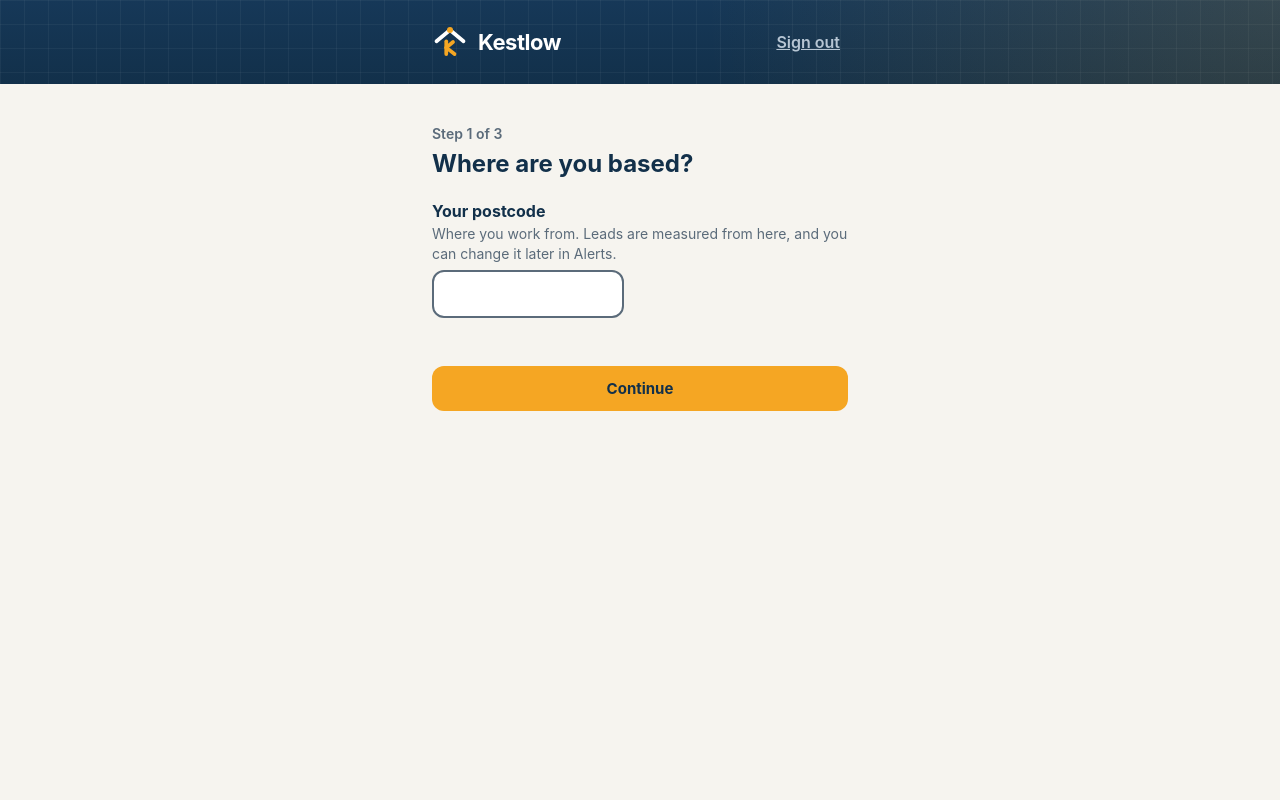
Test case: OnboardingGate › on a one-trade plan, marks the first ticked as the main trade and keeps them all
Type "BR1 1AA" into the field labelled "Your postcode" at (528, 294), box [432,270,624,318]
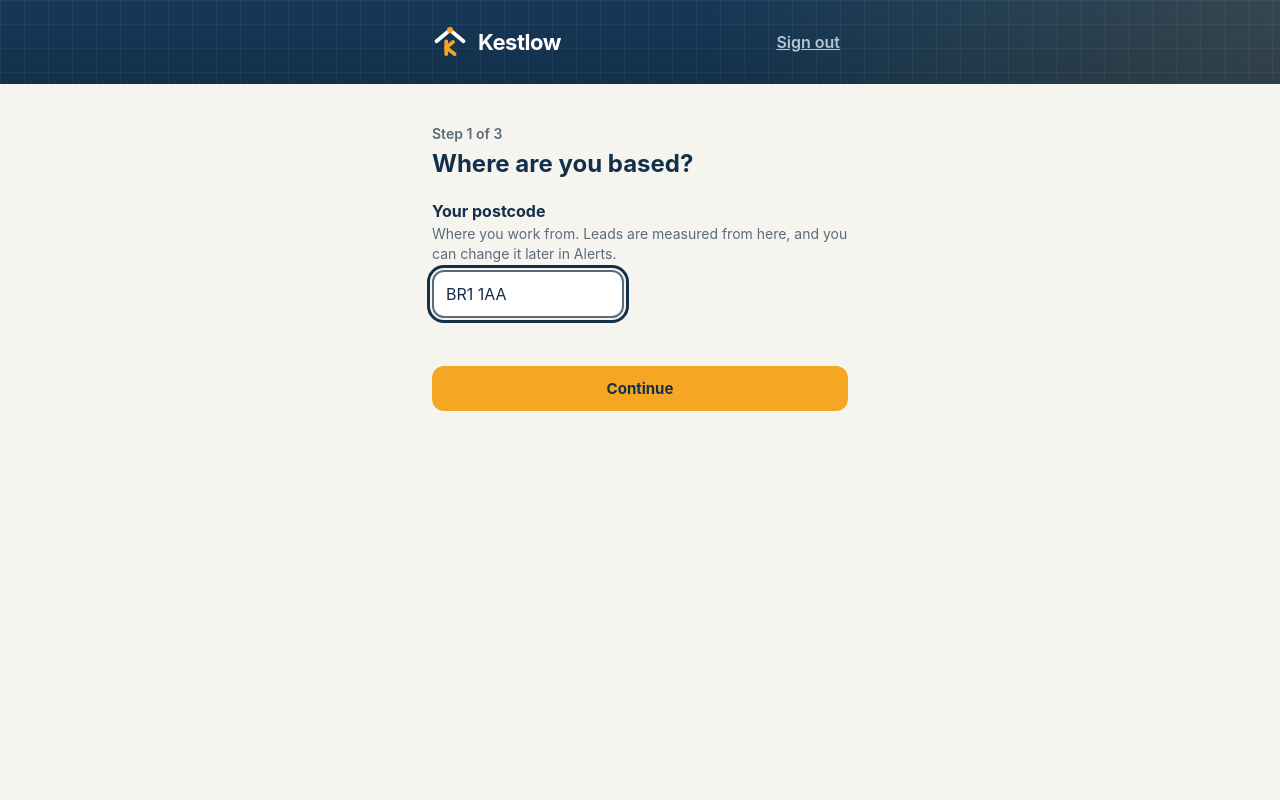
Click the button "Continue" at (640, 389), box [432,366,848,411]
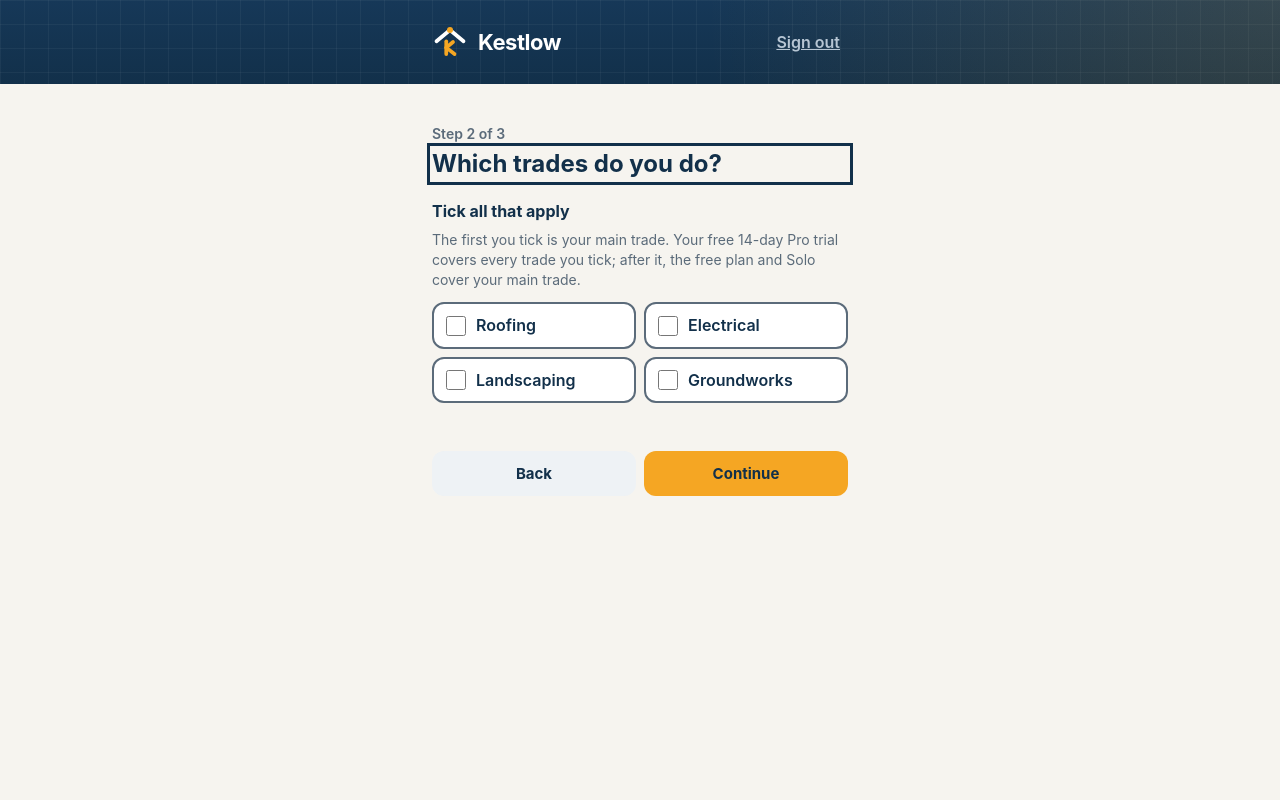
Expected: the heading "Which trades do you do?" is shown, [432,149,722,178]
Expected: the text "Your free 14-day Pro trial covers every trade you tick" is shown, [432,231,838,288]
Click the checkbox labelled "Landscaping" at (456, 380), box [446,370,466,390]
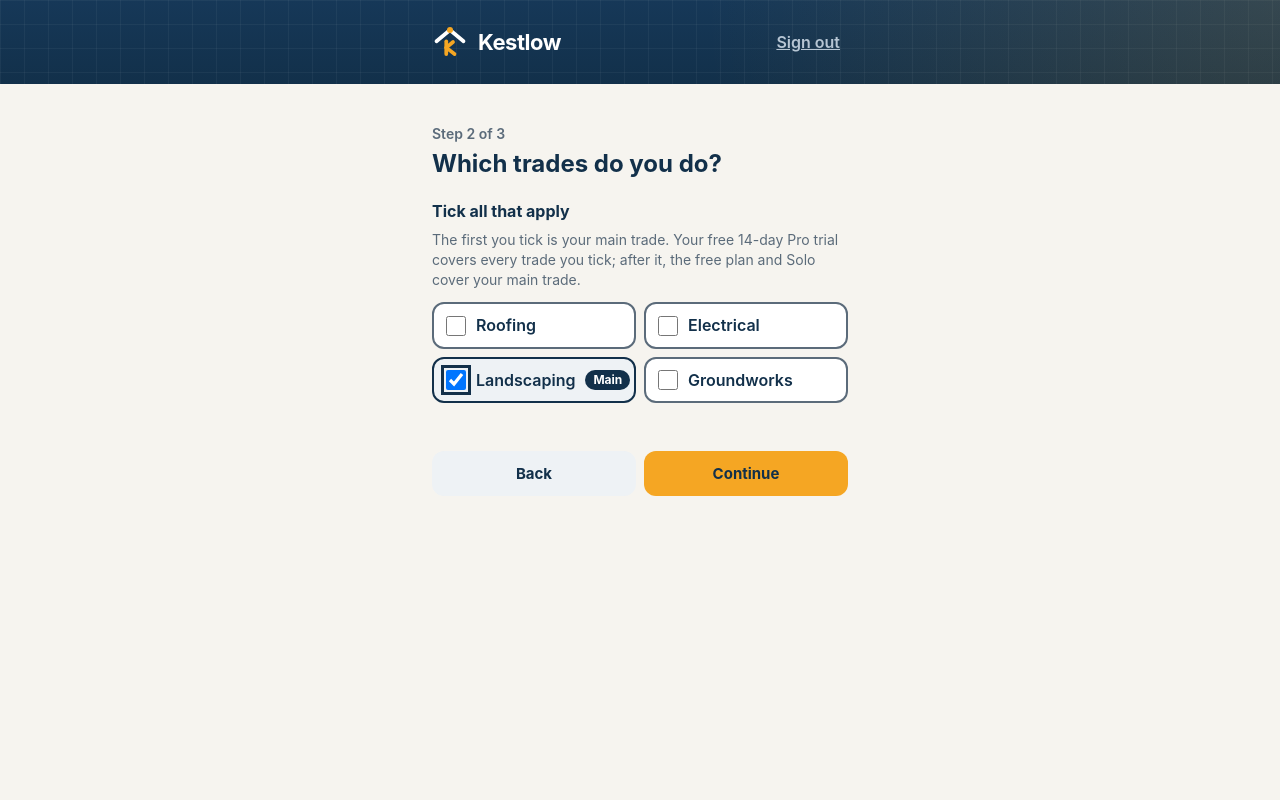
Click the checkbox labelled "Roofing" at (456, 326), box [446,316,466,336]
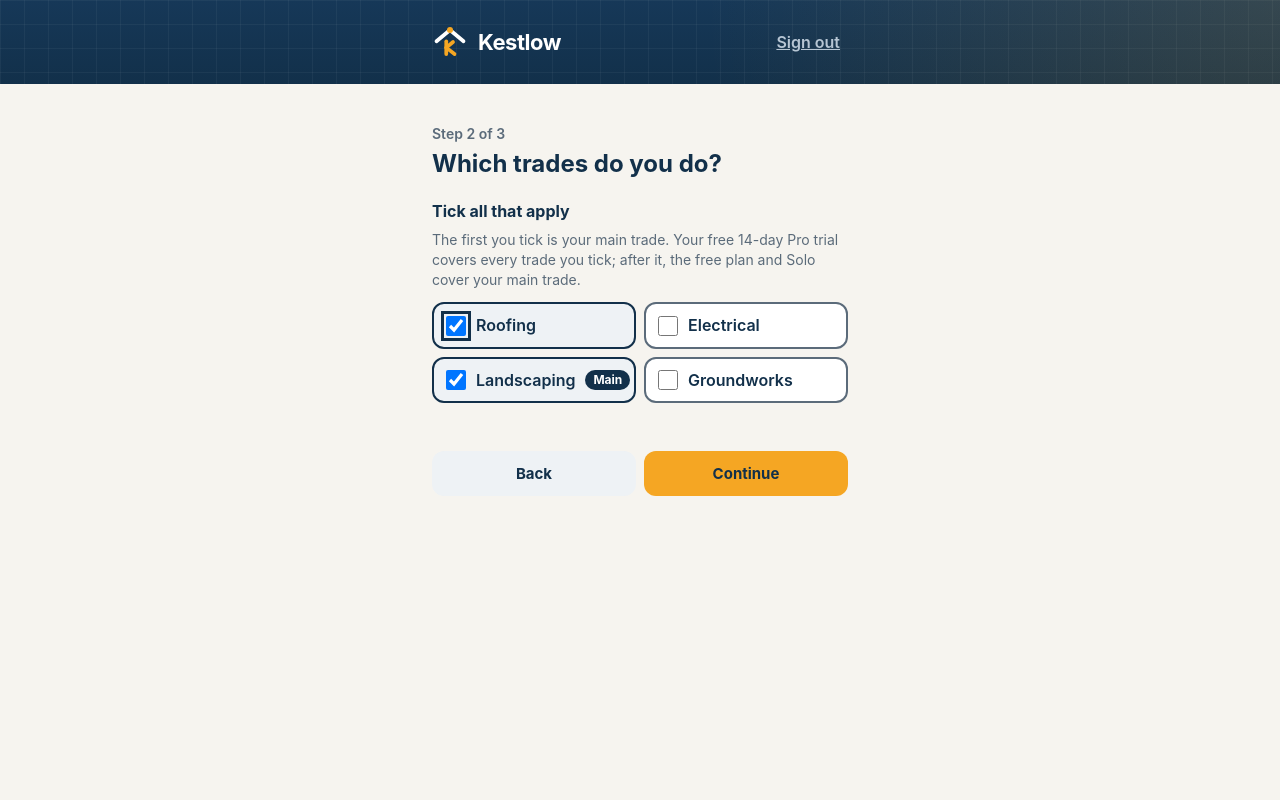
Expected: the label "Roofing" is shown, [432,302,636,349]
Click the button "Continue" at (746, 474), box [644,451,848,496]
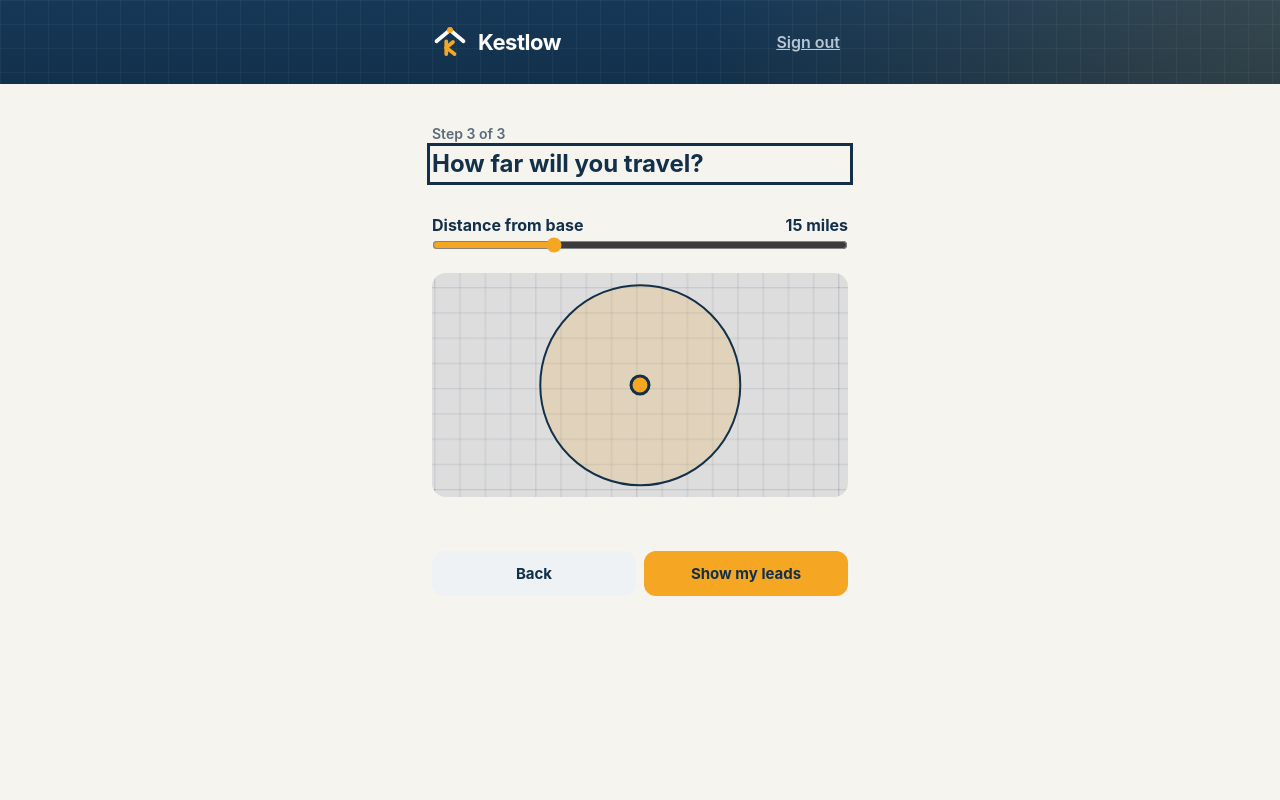
Expected: the heading "How far will you travel?" is shown, [432,149,704,178]
